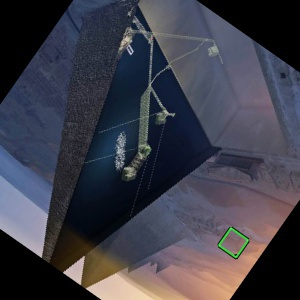square: (217, 225, 251, 260)
